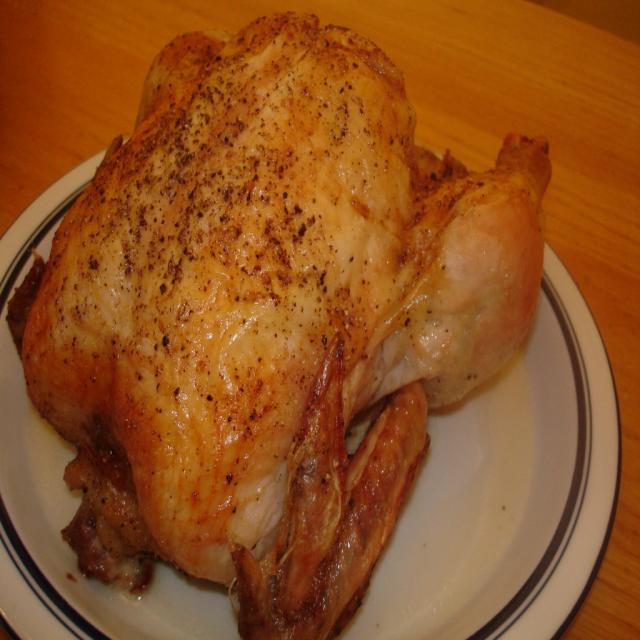Chicken: (5, 2, 552, 640)
